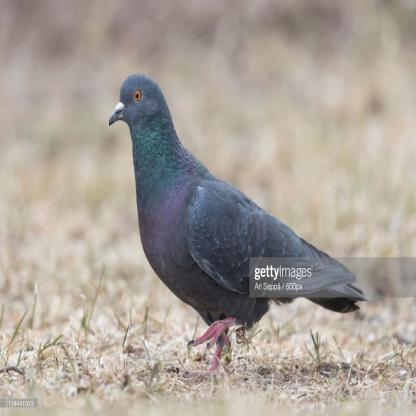Flying Rat: (108, 72, 394, 393)
